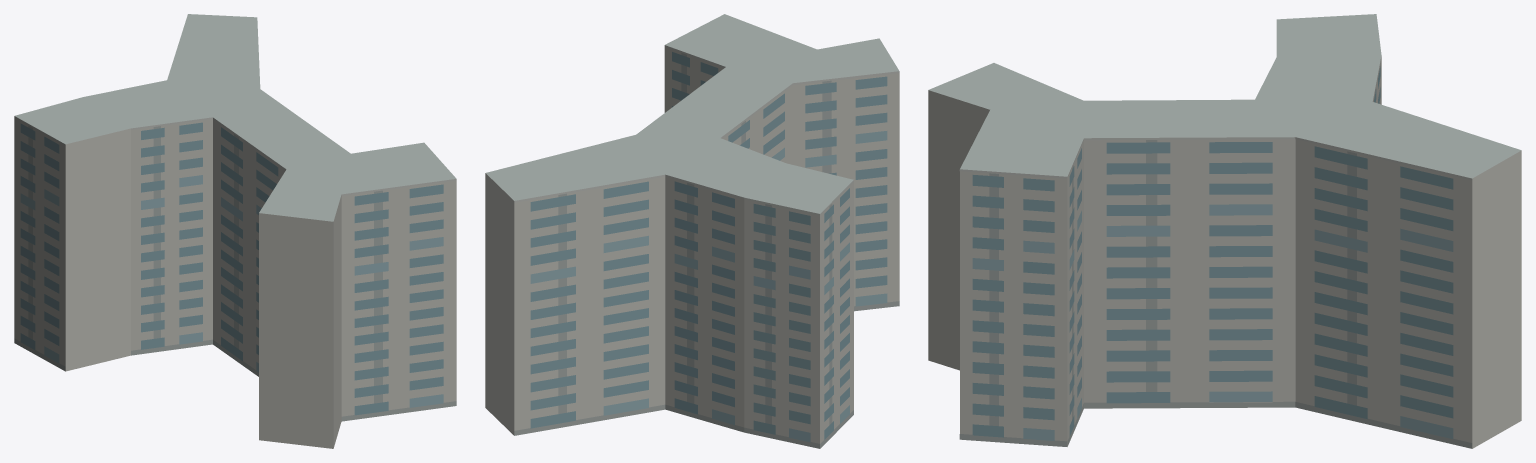
File: residential-b31b2700-a0d9-491e-b189-cea354b2f273.glb
3 renders of one model, left to right at view 1: azimuth 30°, elevation 25°; view 2: azimuth 150°, elevation 25°; view 3: azimuth 270°, elevation 25°, orthographic. The views are drawn at different scales.
Visible parts, largest first — view 1: residential-b31b2700-a0d9-491e-b189-cea354b2f273.tmp; view 2: residential-b31b2700-a0d9-491e-b189-cea354b2f273.tmp; view 3: residential-b31b2700-a0d9-491e-b189-cea354b2f273.tmp.
Boxes of the visible parts, x1,y1,x2,y2 form: residential-b31b2700-a0d9-491e-b189-cea354b2f273.tmp: (14,14,456,448); residential-b31b2700-a0d9-491e-b189-cea354b2f273.tmp: (485,14,899,448); residential-b31b2700-a0d9-491e-b189-cea354b2f273.tmp: (928,14,1521,448).
Size of the model in its own units: 41.77 by 32 by 63.67.
